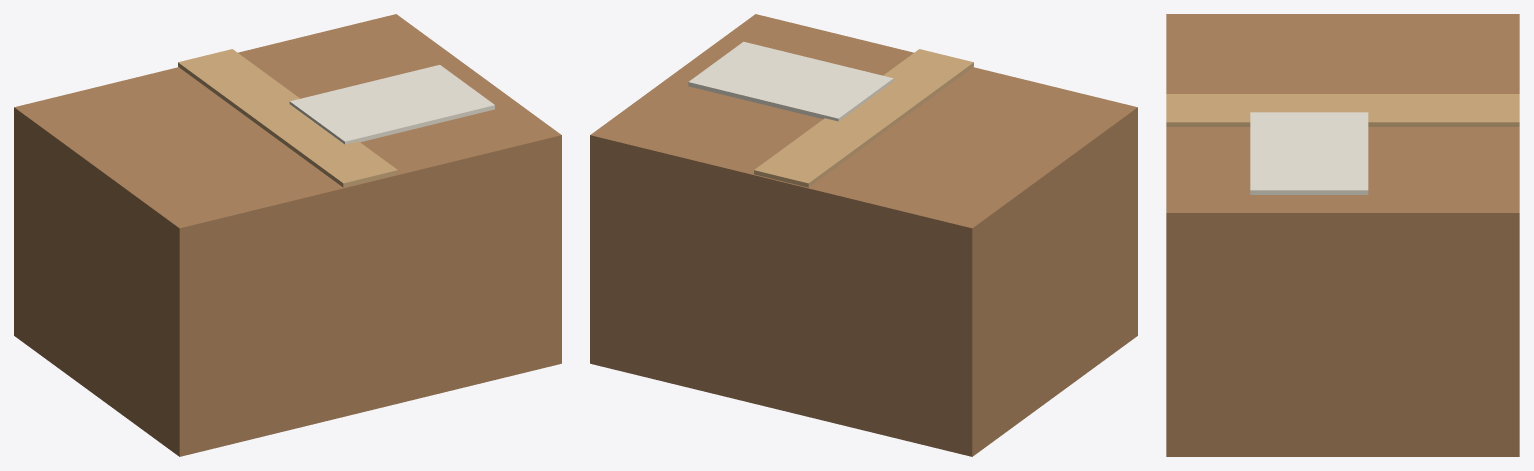
File: officeParcel.glb
The picture shows the model from 3 angles, left to right: view 1: azimuth 30°, elevation 25°; view 2: azimuth 150°, elevation 25°; view 3: azimuth 270°, elevation 25°; orthographic projection. The views are drawn at different scales.
Size of the model in its own units: 0.28 by 0.1655 by 0.21.
